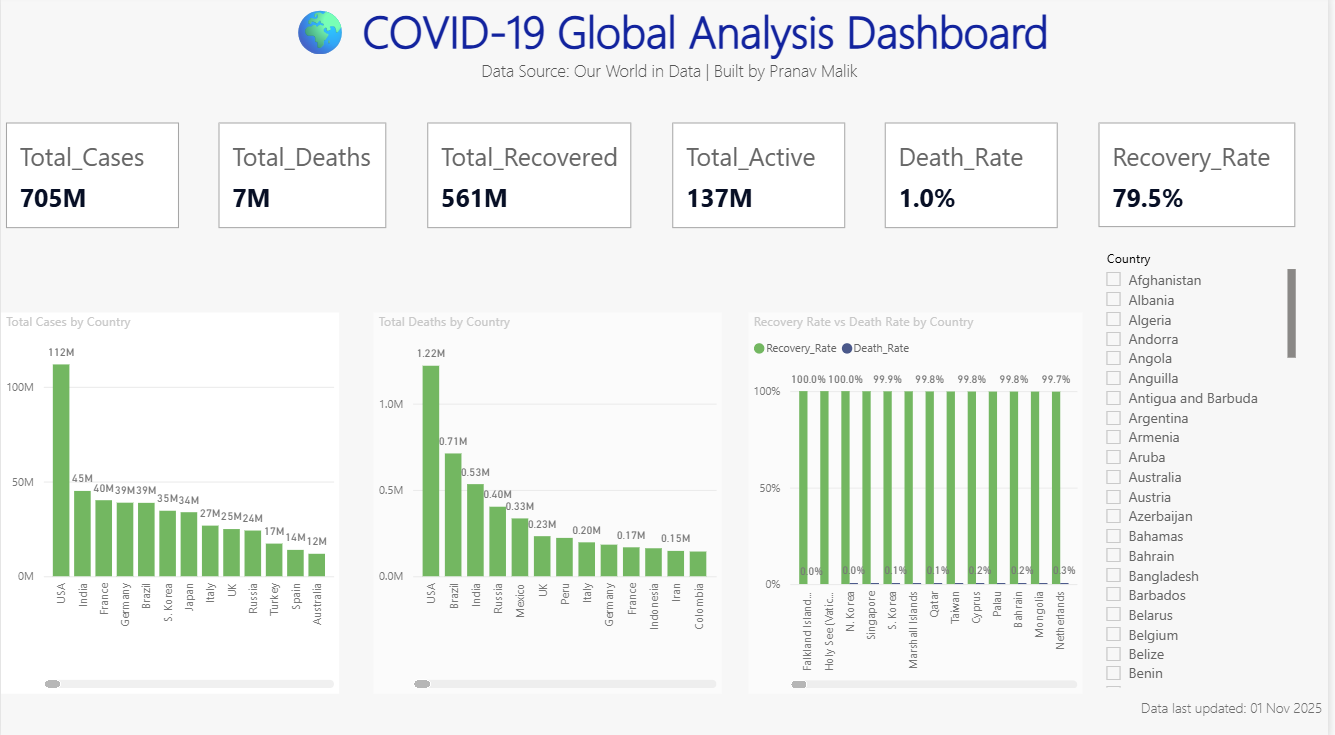

What the dashboard file says about the page in this screenshot:
{"tool":"powerbi","page":{"name":"Page 1","canvas":[1280,720],"ordinal":0},"visuals":[{"type":"clusteredColumnChart","title":"Total Cases by Country","fields":{"Category":["Covid_data.Country"],"Y":["Covid_data.Total_Cases"]},"box":[0,306,326.6,367.8],"z":0},{"type":"clusteredColumnChart","title":"Total Deaths by Country","fields":{"Category":["Covid_data.Country"],"Y":["Covid_data.Total_Deaths"]},"box":[359.5,306,336.2,367.8],"z":1000},{"type":"clusteredColumnChart","title":"Recovery Rate vs Death Rate by Country","fields":{"Category":["Covid_data.Country"],"Y":["Covid_data.Recovery_Rate","Covid_data.Death_Rate"]},"box":[721.8,306,322.5,367.8],"z":2000},{"type":"slicer","fields":{"Values":["Covid_data.Country"]},"box":[1053.9,241.5,200.3,432.2],"z":3000},{"type":"textbox","box":[9.6,0,1270.7,118],"z":4000},{"type":"cardVisual","fields":{"Data":["Covid_data.Total_Cases"]},"box":[0,118,177,112],"z":5000},{"type":"cardVisual","fields":{"Data":["Covid_data.Total_Deaths"]},"box":[205.6,118,172.9,112.5],"z":6000},{"type":"cardVisual","fields":{"Data":["Covid_data.Total_Recovered"]},"box":[407,118,207.2,112.5],"z":7000},{"type":"cardVisual","fields":{"Data":["Covid_data.Total_Active"]},"box":[642.7,118,177,112.5],"z":8000},{"type":"cardVisual","fields":{"Data":["Covid_data.Death_Rate"]},"box":[848.3,118,177,112.5],"z":9000},{"type":"cardVisual","fields":{"Data":["Covid_data.Recovery_Rate"]},"box":[1053.9,118,200.3,111.1],"z":10000},{"type":"textbox","box":[981.1,673.8,299.1,46.7],"z":11000}]}

Visuals, with their boxes in screenshot pixels (x1, y1, x2, y2), scaled from the page's 1280x720 canvas onto the 1335x735 screenshot:
"Total Cases by Country" clusteredColumnChart: (left=0, top=312, right=341, bottom=688)
"Total Deaths by Country" clusteredColumnChart: (left=375, top=312, right=726, bottom=688)
"Recovery Rate vs Death Rate by Country" clusteredColumnChart: (left=753, top=312, right=1089, bottom=688)
slicer - Covid_data.Country: (left=1099, top=247, right=1308, bottom=688)
textbox: (left=10, top=0, right=1334, bottom=120)
cardVisual - Covid_data.Total_Cases: (left=0, top=120, right=185, bottom=235)
cardVisual - Covid_data.Total_Deaths: (left=214, top=120, right=395, bottom=235)
cardVisual - Covid_data.Total_Recovered: (left=424, top=120, right=641, bottom=235)
cardVisual - Covid_data.Total_Active: (left=670, top=120, right=855, bottom=235)
cardVisual - Covid_data.Death_Rate: (left=885, top=120, right=1069, bottom=235)
cardVisual - Covid_data.Recovery_Rate: (left=1099, top=120, right=1308, bottom=234)
textbox: (left=1023, top=688, right=1334, bottom=734)
